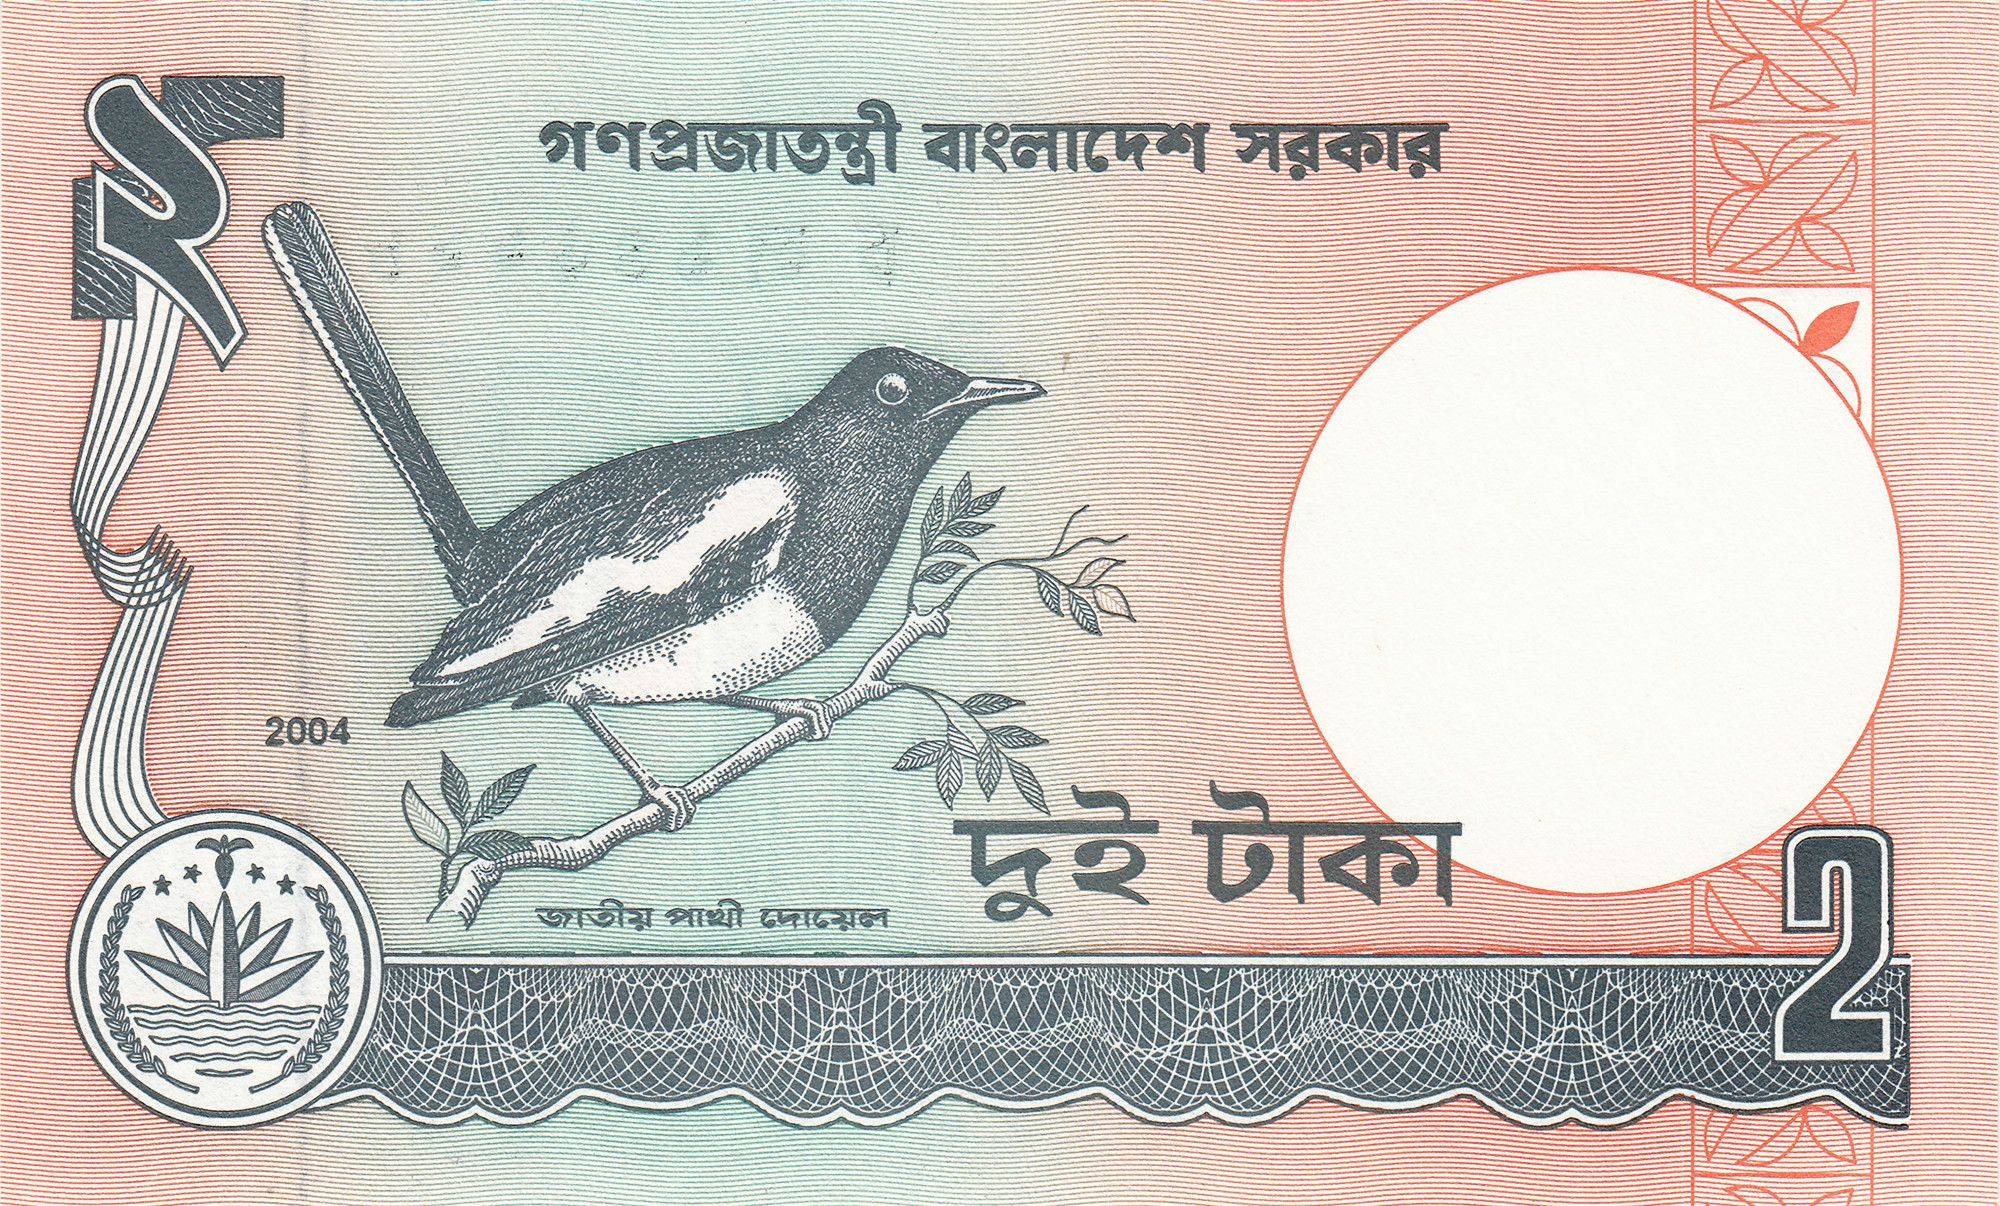2_taka: (69, 49, 1904, 1129)
